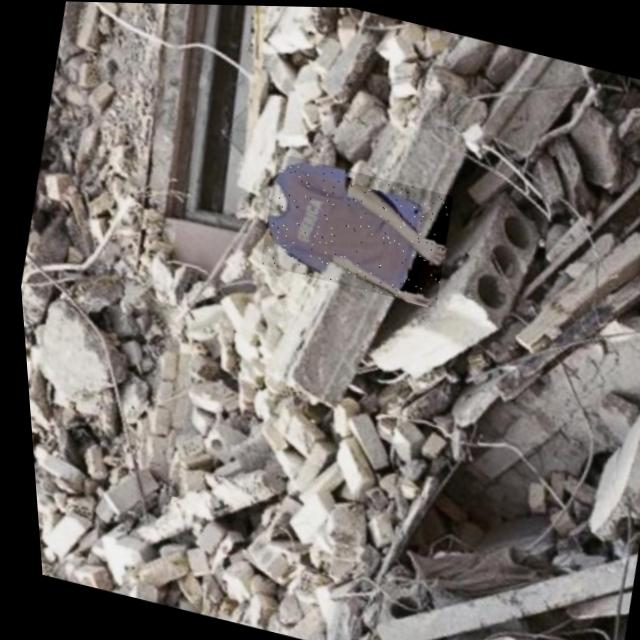Person in Rubble: (249, 150, 456, 305)
